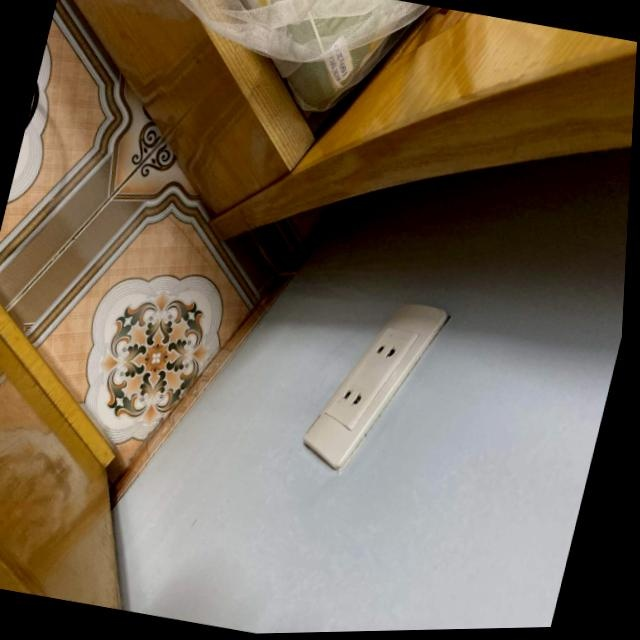outlet: (294, 286, 452, 485)
